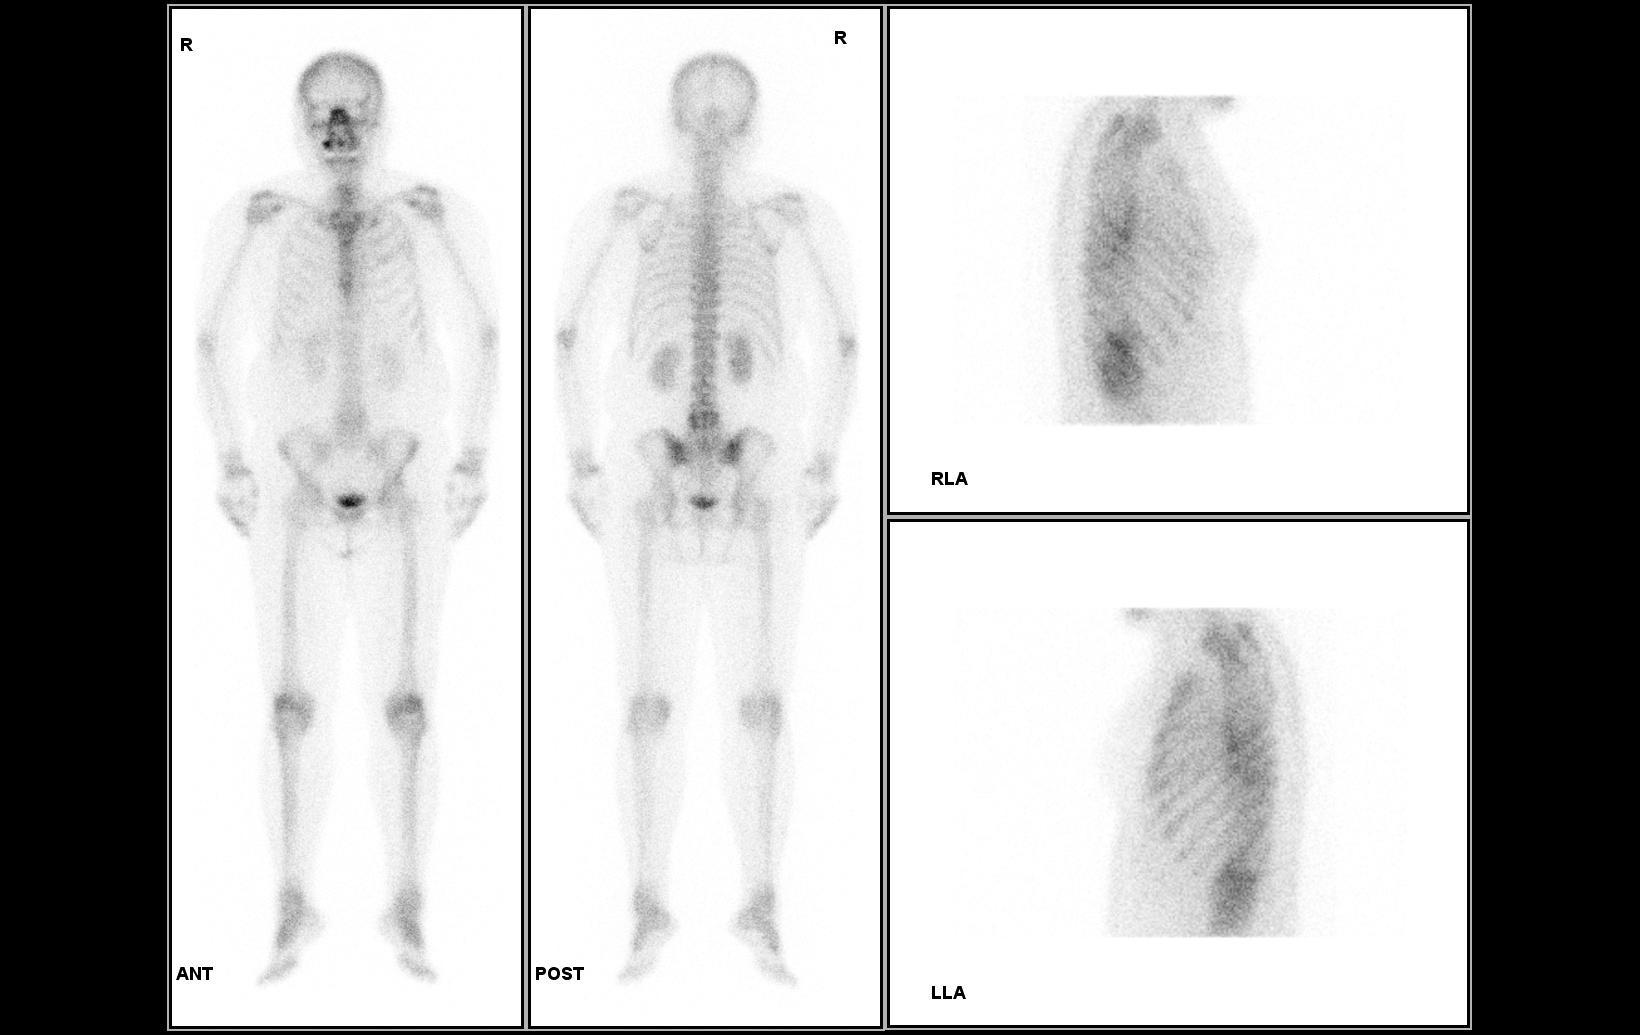person: (168, 4, 882, 1027)
